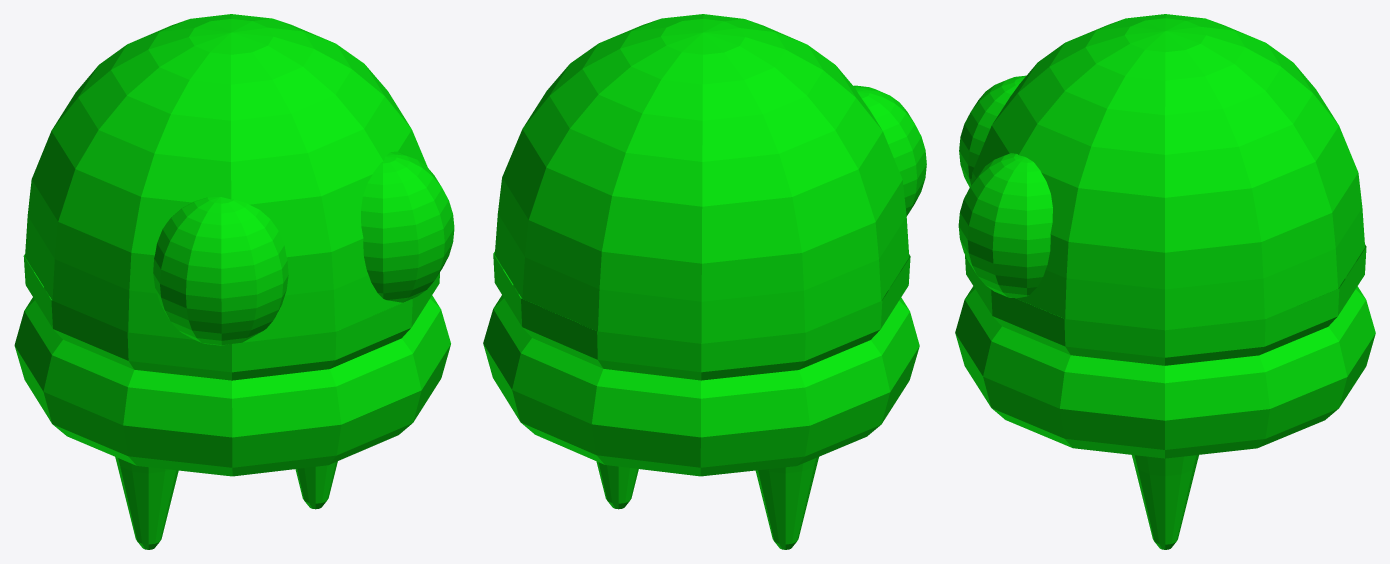
The model's file is reposmaller.fbx.
3 renders of one model, left to right at view 1: azimuth 30°, elevation 25°; view 2: azimuth 150°, elevation 25°; view 3: azimuth 270°, elevation 25°, orthographic. The views are drawn at different scales.
Parts seen in each view (by area): view 1: repo small; view 2: repo small; view 3: repo small.
Part boxes in pixels (x1=…): repo small: x1=14, y1=14, x2=454, y2=549; repo small: x1=483, y1=14, x2=926, y2=549; repo small: x1=955, y1=14, x2=1375, y2=549.
Bounding box in the file's own units: 29.71 × 37.12 × 29.71.
